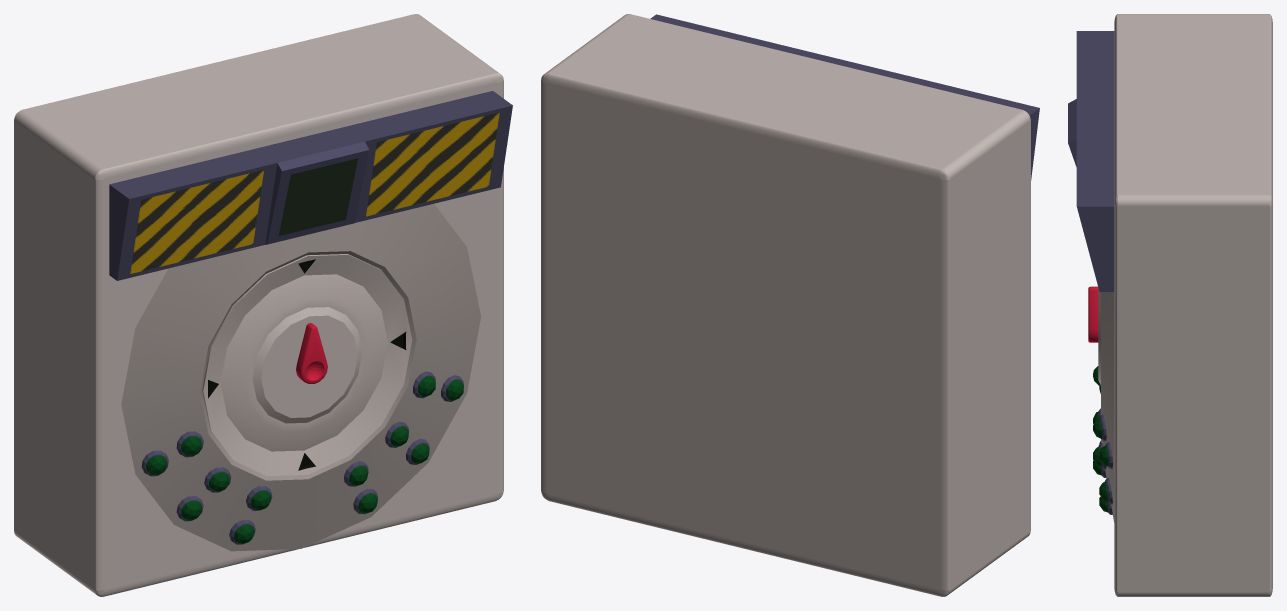
File: needy-knob.glb
The picture shows the model from 3 angles, left to right: view 1: azimuth 30°, elevation 25°; view 2: azimuth 150°, elevation 25°; view 3: azimuth 270°, elevation 25°; orthographic projection. The views are drawn at different scales.
Parts seen in each view (by area): view 1: NeedyKnobModule, KnobShell.Outer, TimerScreen.Base, KnobShell.Inner, KnobTimerScreen, Dial; view 2: NeedyKnobModule, TimerScreen.Base; view 3: NeedyKnobModule, TimerScreen.Base, KnobShell.Outer, Dial.
Part boxes in pixels (x1,y1,x2,y2): NeedyKnobModule: [14, 14, 503, 596]; KnobShell.Outer: [121, 204, 480, 551]; TimerScreen.Base: [109, 91, 512, 280]; KnobShell.Inner: [202, 254, 412, 476]; KnobTimerScreen: [278, 158, 357, 235]; Dial: [296, 323, 327, 383]; NeedyKnobModule: [541, 14, 1030, 596]; TimerScreen.Base: [650, 14, 1039, 180]; NeedyKnobModule: [1114, 14, 1272, 596]; TimerScreen.Base: [1068, 31, 1114, 291]; KnobShell.Outer: [1101, 292, 1114, 522]; Dial: [1088, 286, 1098, 342].
Size of the model in its own units: 0.1761 by 0.1761 by 0.0814.
8 materials, 1 textured.
